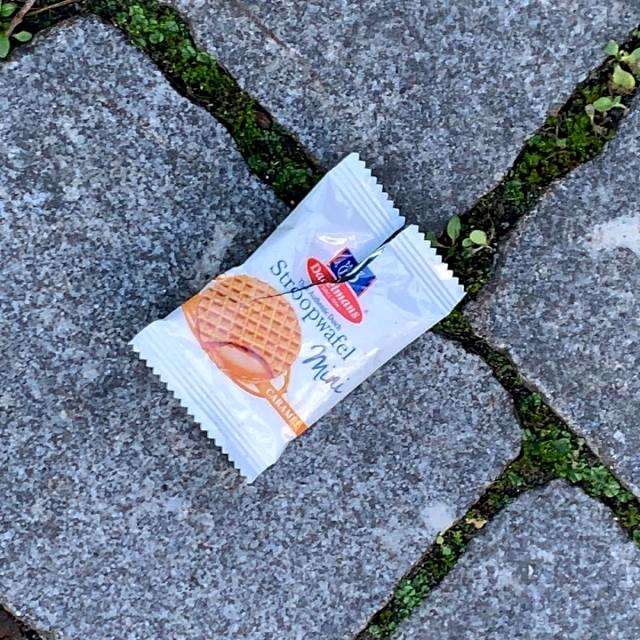Plastic: (122, 146, 468, 487)
